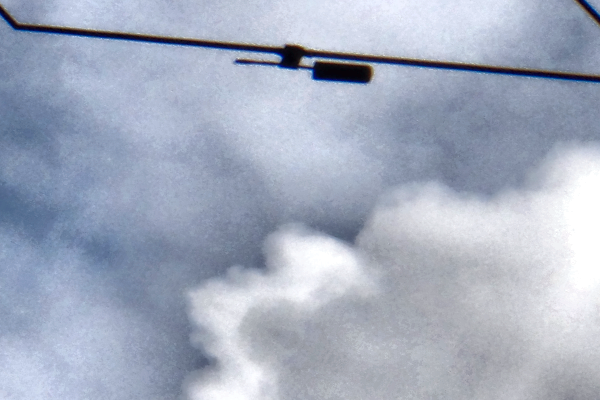damper_defect: (227, 41, 375, 87)
